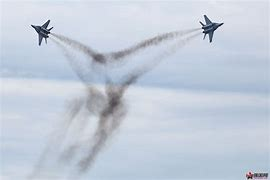smoke: (51, 23, 200, 146)
